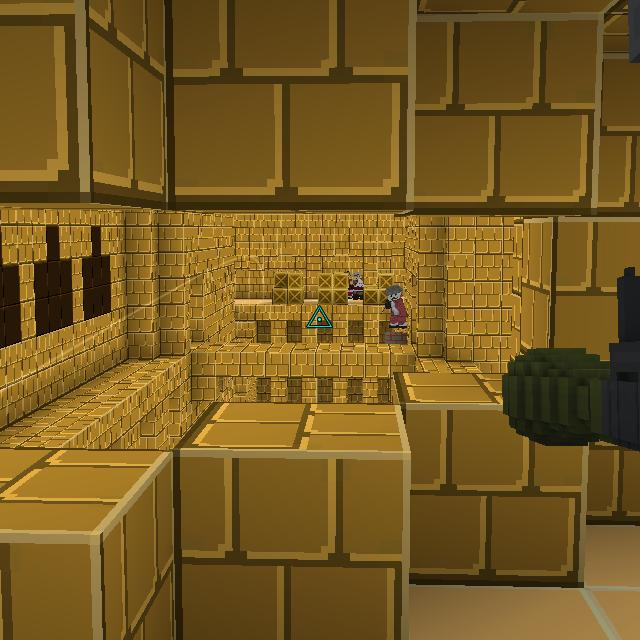enemy: (384, 282, 407, 332), (353, 272, 364, 301), (346, 272, 353, 300)
